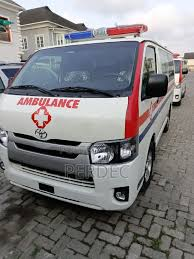Ambulance: (2, 23, 177, 216)
